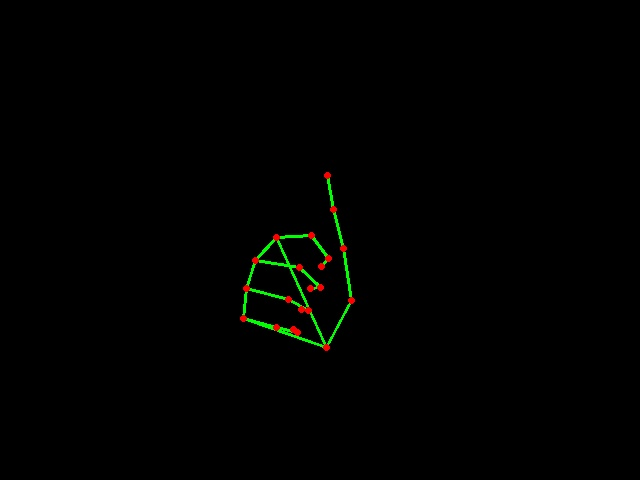fast: (237, 155, 362, 360)
